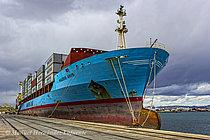Ship: (15, 5, 174, 134)
